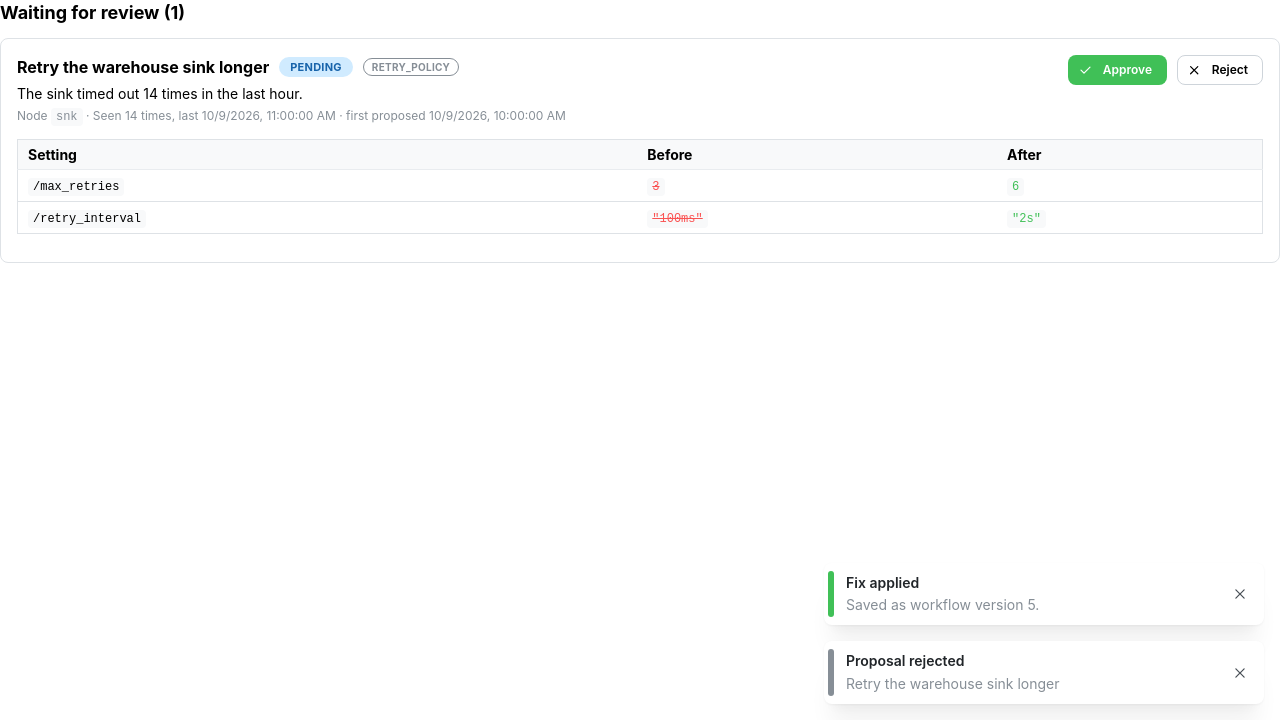
Test: Self-healing proposals › explains a fix the workflow validator refused (422)
This screenshot has width=1280, height=720.
Step 1. Click the button "Approve" → click(1118, 70), box [1068,55,1167,85]
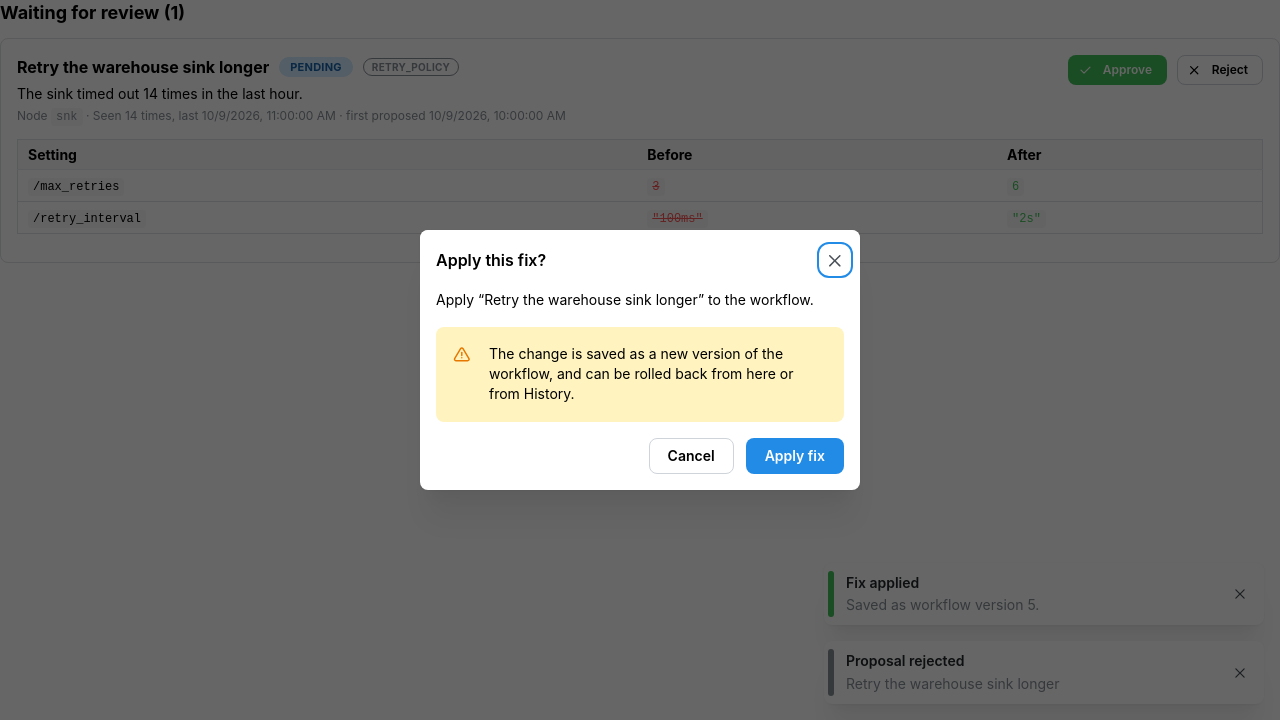
Step 2. Click the button "Apply fix" → click(795, 456), box [746,438,844,474]
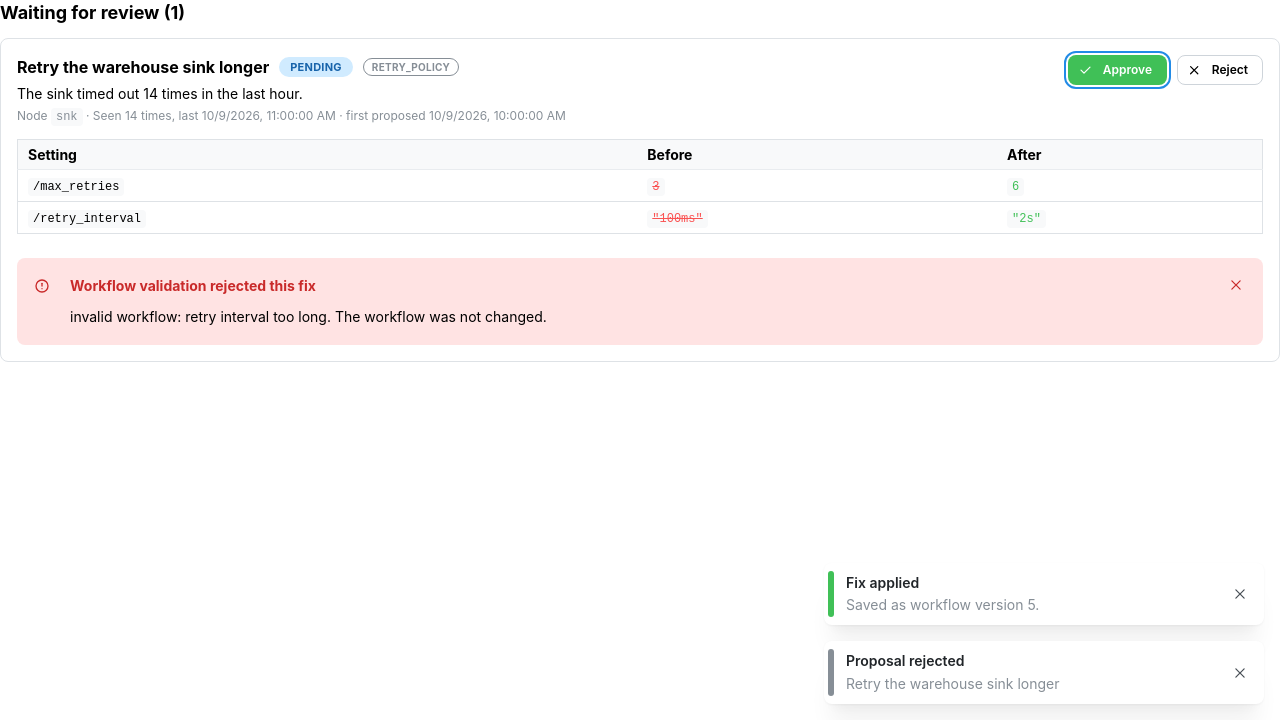
Expected: the text "Workflow validation rejected this fix" is shown, [70,275,316,296]
Expected: the text "retry interval too long" is shown, [70,308,547,325]
